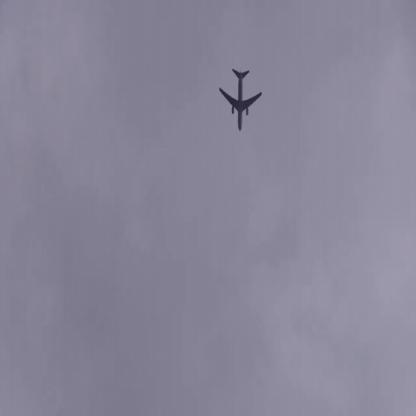CIV_Plane: (217, 66, 263, 136)
